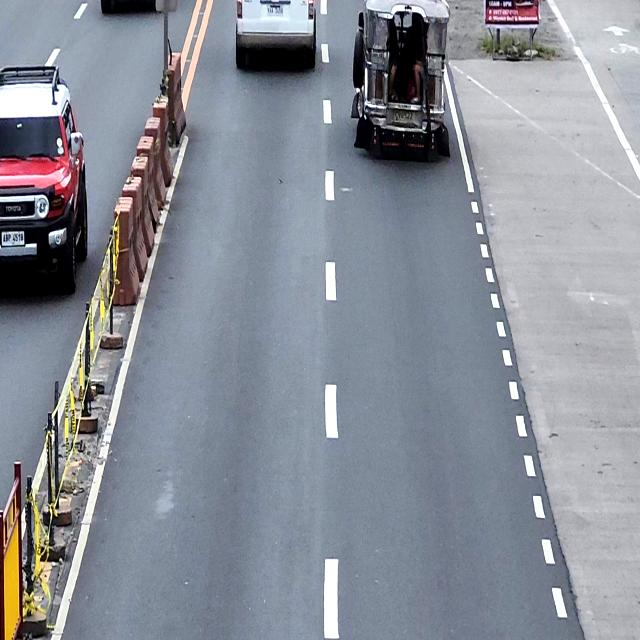Car: (0, 64, 88, 291), (234, 0, 316, 69)
Jeep: (349, 0, 452, 162)
License-Plate: (1, 231, 25, 247), (394, 108, 414, 122), (265, 5, 285, 17)
